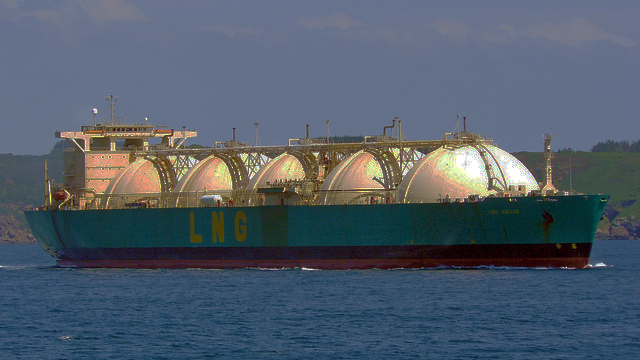LNG_ship: (24, 91, 605, 267)
